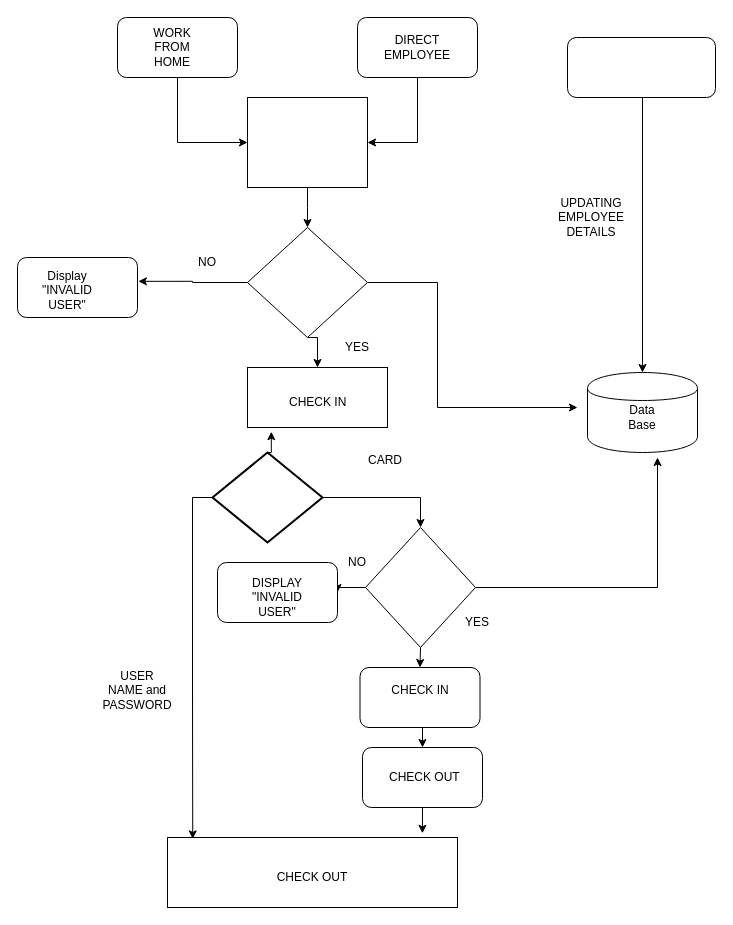
The diagram is 733 pixels wide and 925 high, and some of its shapes have lost their labels. The centre of each missing label's shape, as x and y in pixels:
ADMIN: [641,67]
INPUT "SWIPE CARD/USER NAME and PASSWORD": [307,142]
SWIPE CARD: [420,587]
TYPE: [267,497]
VERIFY: [307,282]
